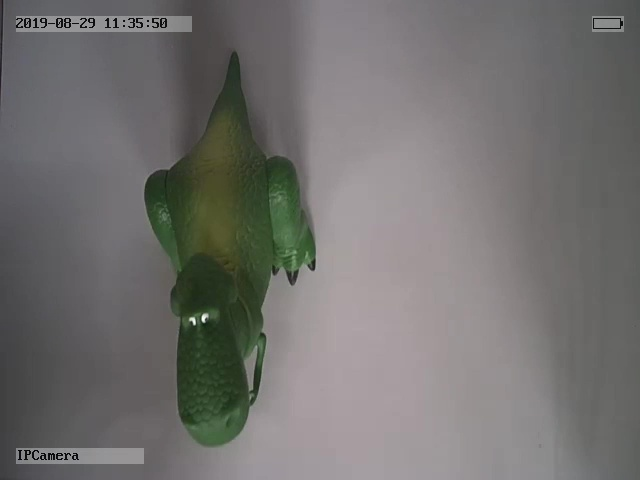rex: (143, 51, 318, 448)
